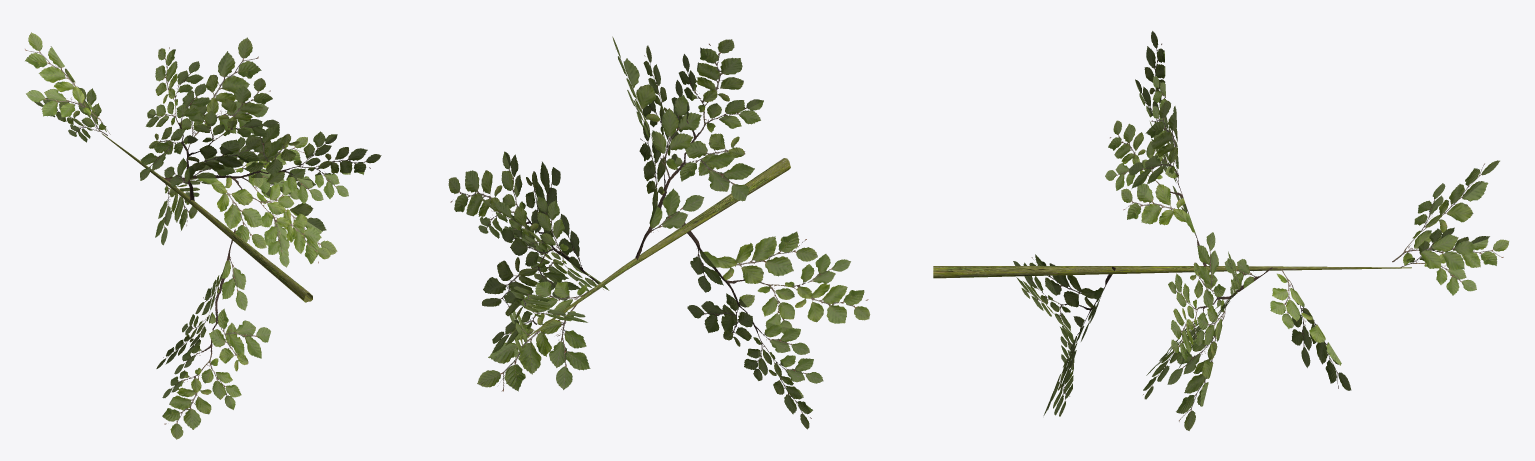
File: tree small fg 3.fbx
3 renders of one model, left to right at view 1: azimuth 30°, elevation 25°; view 2: azimuth 150°, elevation 25°; view 3: azimuth 270°, elevation 25°, orthographic. The views are drawn at different scales.
Visible parts, largest first — view 1: Cylinder_012; view 2: Cylinder_012; view 3: Cylinder_012.
Part boxes in pixels (bbox=[...]): Cylinder_012: bbox=[25, 32, 381, 439]; Cylinder_012: bbox=[448, 36, 870, 429]; Cylinder_012: bbox=[933, 31, 1509, 430].
Size of the model in its own units: 2.9 by 3.31 by 4.11.
